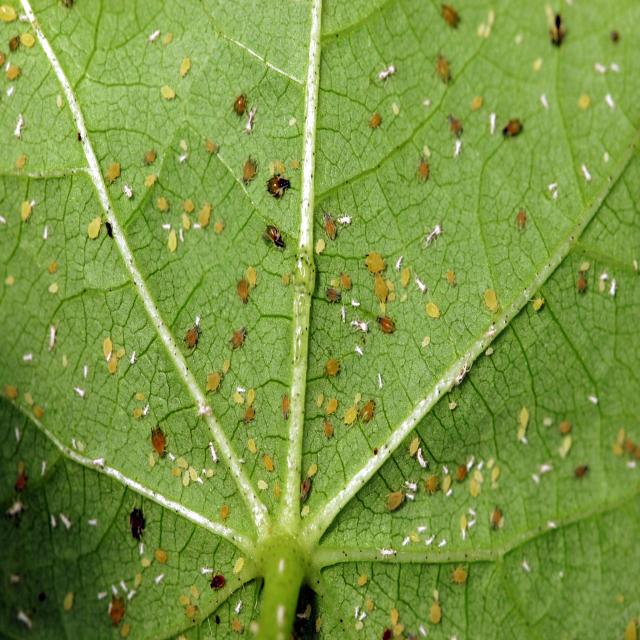Aphid: (129, 496, 146, 542), (266, 171, 292, 199), (182, 316, 202, 352), (233, 92, 247, 117)
Aphids: (265, 223, 286, 250)
